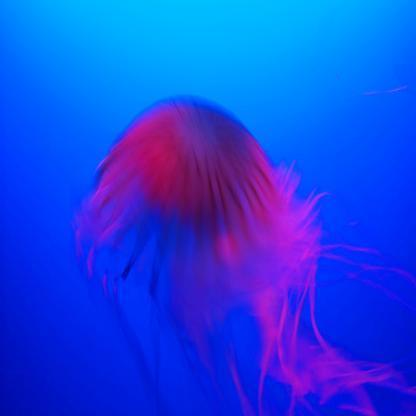Moon: (81, 90, 360, 404)
